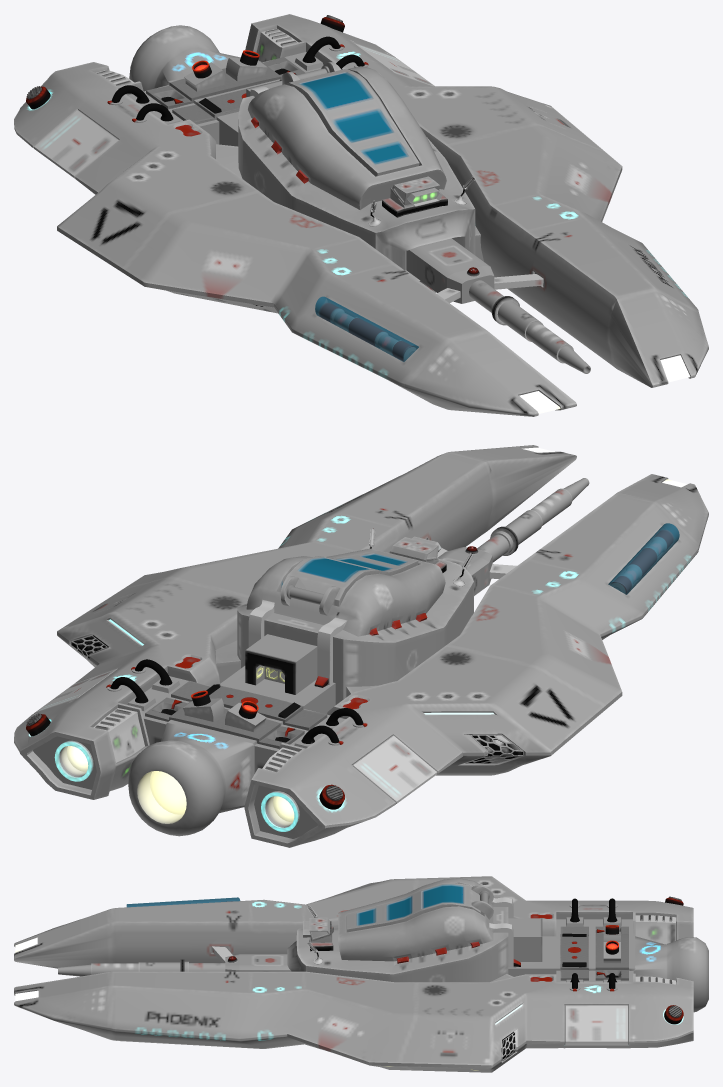
The model's file is phoenix.glb.
3 renders of one model, top to bottom at view 1: azimuth 30°, elevation 25°; view 2: azimuth 150°, elevation 25°; view 3: azimuth 270°, elevation 25°, orthographic. The views are drawn at different scales.
Parts seen in each view (by area): view 1: phoenix_mesh; view 2: phoenix_mesh; view 3: phoenix_mesh.
Part boxes in pixels (bbox=[...]): phoenix_mesh: bbox=[14, 14, 708, 416]; phoenix_mesh: bbox=[14, 445, 708, 847]; phoenix_mesh: bbox=[14, 876, 708, 1072].
Size of what is drawn, in the model's own units: 6.3 by 1.85 by 10.
Materials: 12 (11 with a texture image).
